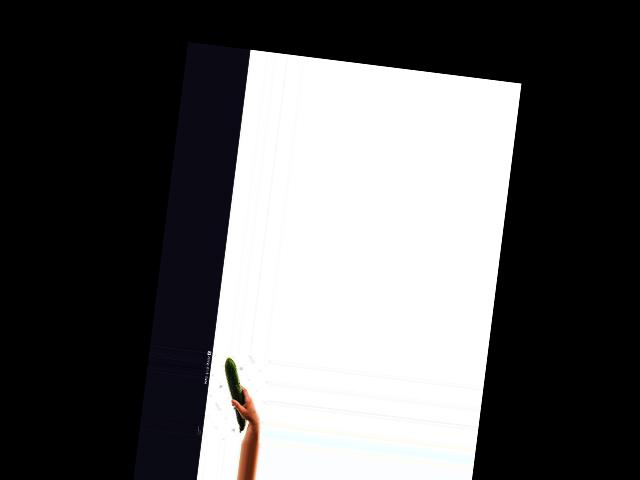cucumber: (216, 357, 253, 433)
